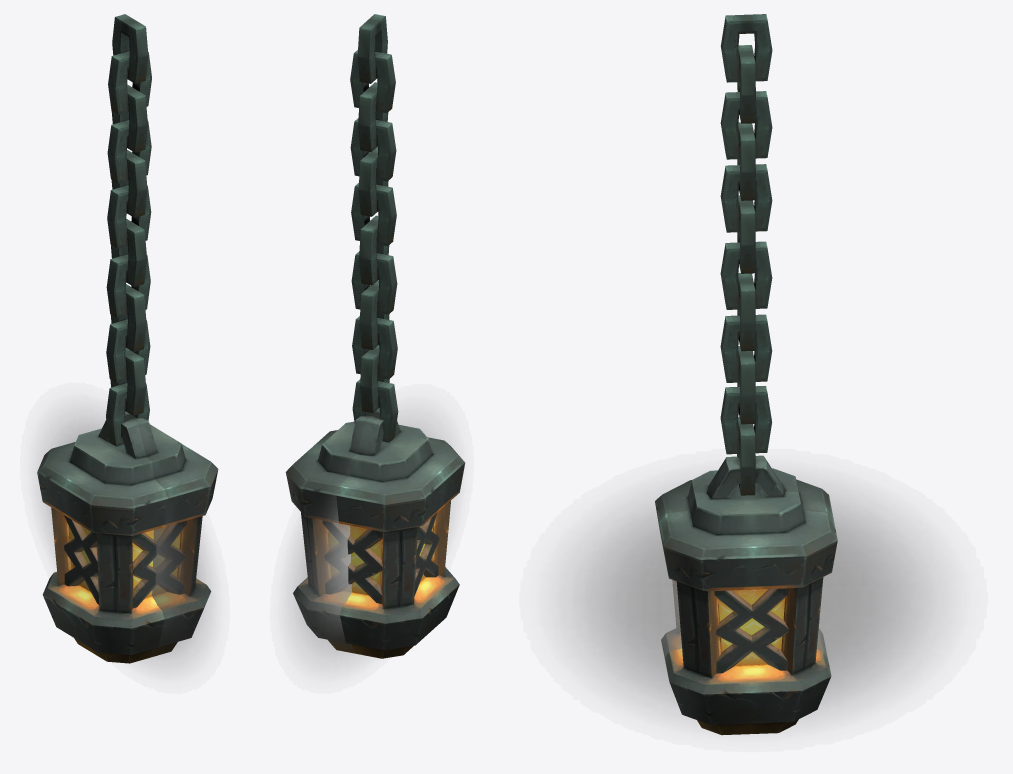
3 views of the same model, side by side, from view 1: azimuth 30°, elevation 25°; view 2: azimuth 150°, elevation 25°; view 3: azimuth 270°, elevation 25° (orthographic). The views are drawn at different scales.
Bounding box in the file's own units: 1.09 × 4.87 × 2.91.
3 materials, 3 textured.
